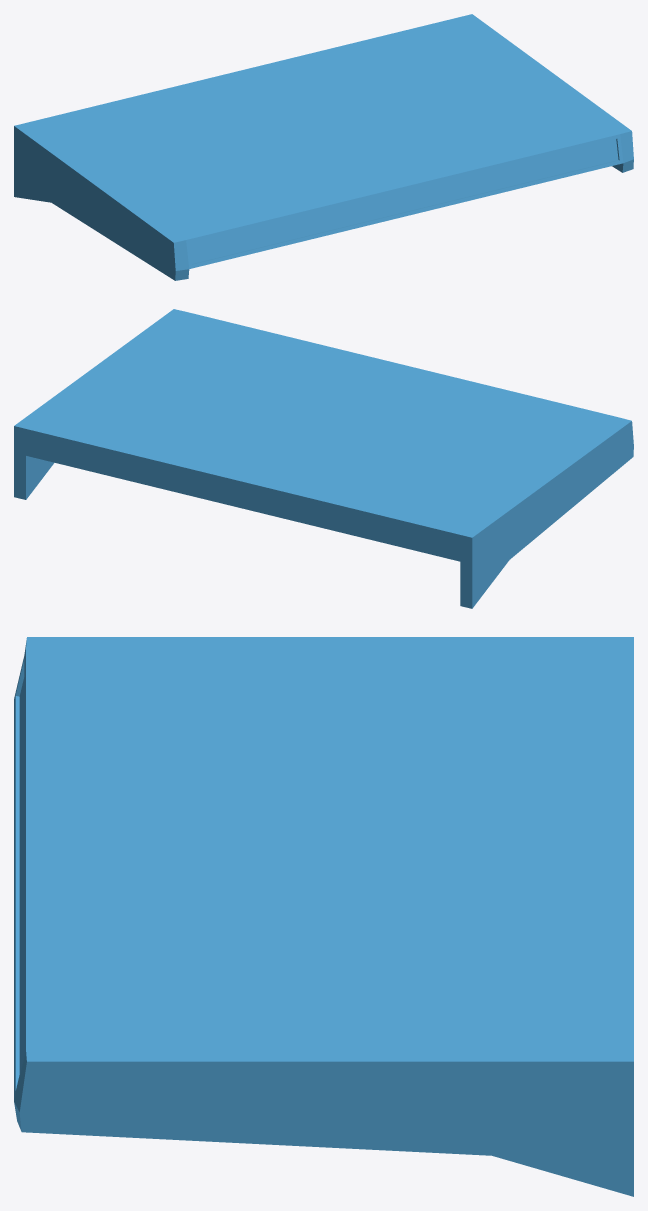
File: Etagere_Planche.fbx
3 renders of one model, top to bottom at view 1: azimuth 30°, elevation 25°; view 2: azimuth 150°, elevation 25°; view 3: azimuth 270°, elevation 25°, orthographic. The views are drawn at different scales.
Parts seen in each view (by area): view 1: Etagere.001; view 2: Etagere.001; view 3: Etagere.001.
Boxes of the visible parts, left/top/right/bottom form: Etagere.001: left=14, top=14, right=633, bottom=280; Etagere.001: left=14, top=309, right=633, bottom=608; Etagere.001: left=14, top=637, right=633, bottom=1196.
Size of the model in its own units: 98.83 by 14.67 by 60.96.
